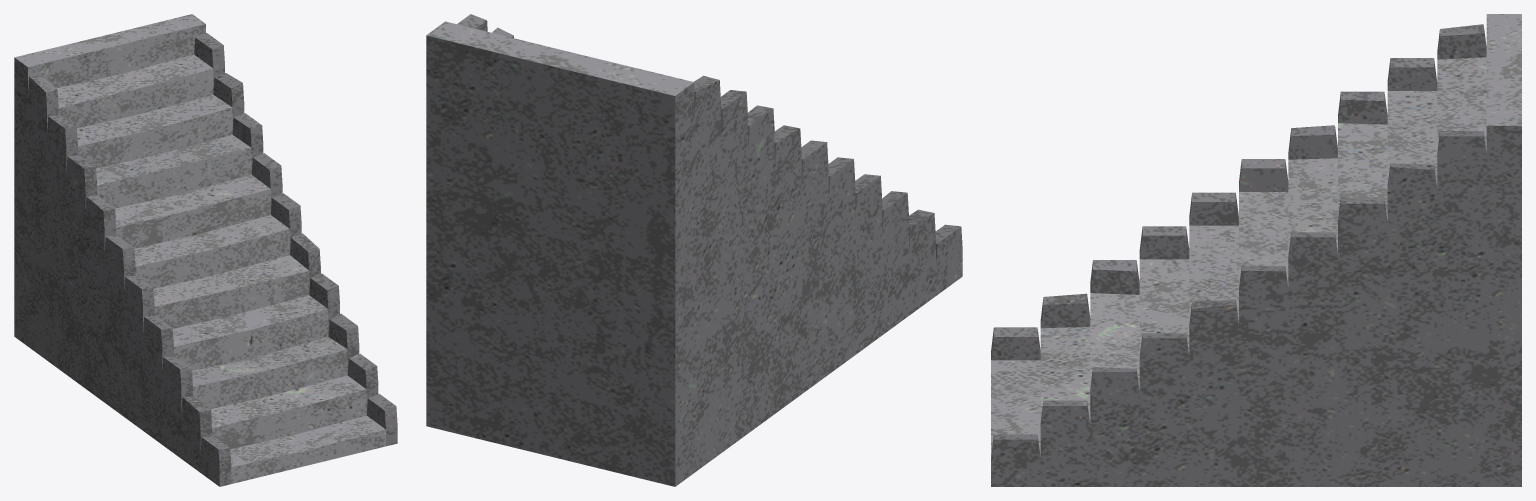
Rendered from ladder_1.glb.
The picture shows the model from 3 angles, left to right: view 1: azimuth 30°, elevation 25°; view 2: azimuth 150°, elevation 25°; view 3: azimuth 270°, elevation 25°; orthographic projection. The views are drawn at different scales.
Parts seen in each view (by area): view 1: Stairs; view 2: Stairs; view 3: Stairs.
Boxes of the visible parts, <box> form: Stairs: <box>14,14,397,486</box>; Stairs: <box>426,14,962,486</box>; Stairs: <box>991,14,1521,486</box>.
Size of the model in its own units: 2 by 3 by 4.
2 materials, 2 textured.
